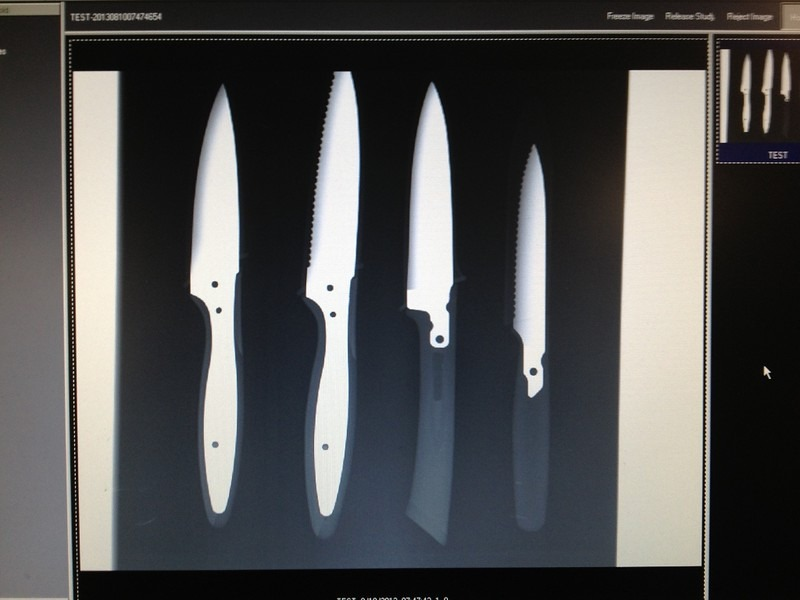knife: (181, 82, 257, 529), (396, 72, 462, 554), (296, 64, 361, 546), (497, 142, 560, 537)
